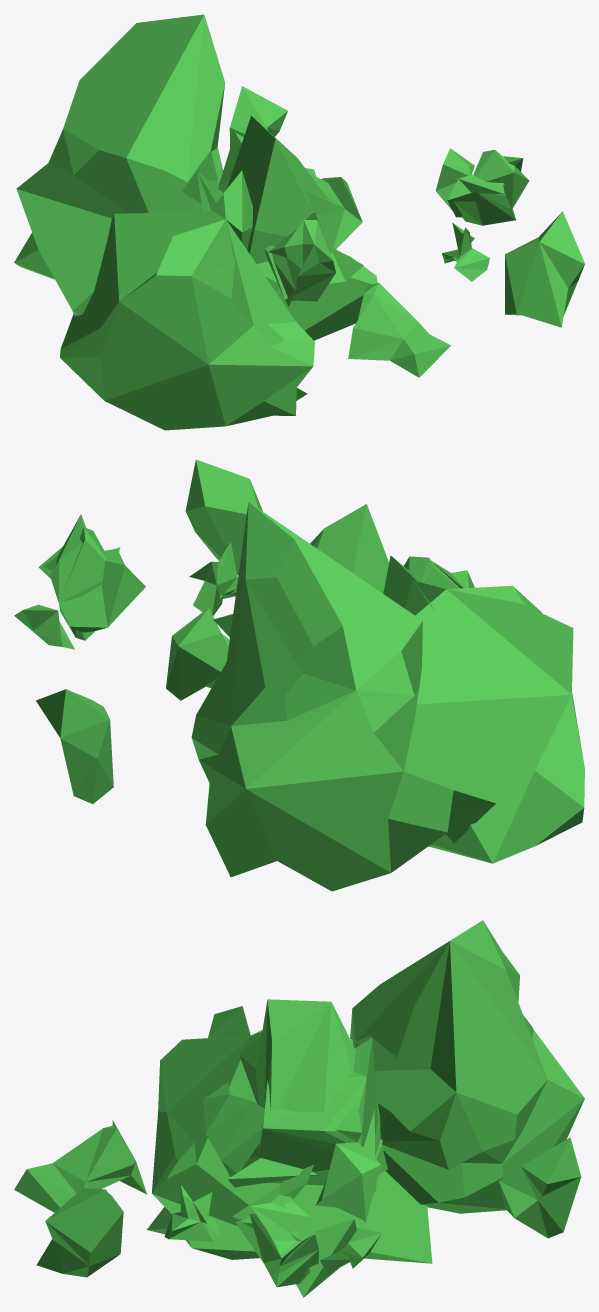
Rendered from Terrain_Cluster1.fbx.
3 renders of one model, top to bottom at view 1: azimuth 30°, elevation 25°; view 2: azimuth 150°, elevation 25°; view 3: azimuth 270°, elevation 25°, orthographic. The views are drawn at different scales.
Parts seen in each view (by area): view 1: Cluster1; view 2: Cluster1; view 3: Cluster1.
Boxes of the visible parts, box(x1,y1,x2,y2) form: Cluster1: box(14, 14, 584, 430); Cluster1: box(14, 459, 584, 891); Cluster1: box(14, 920, 584, 1297).
Bounding box in the file's own units: 21.4 × 13.68 × 21.23.
